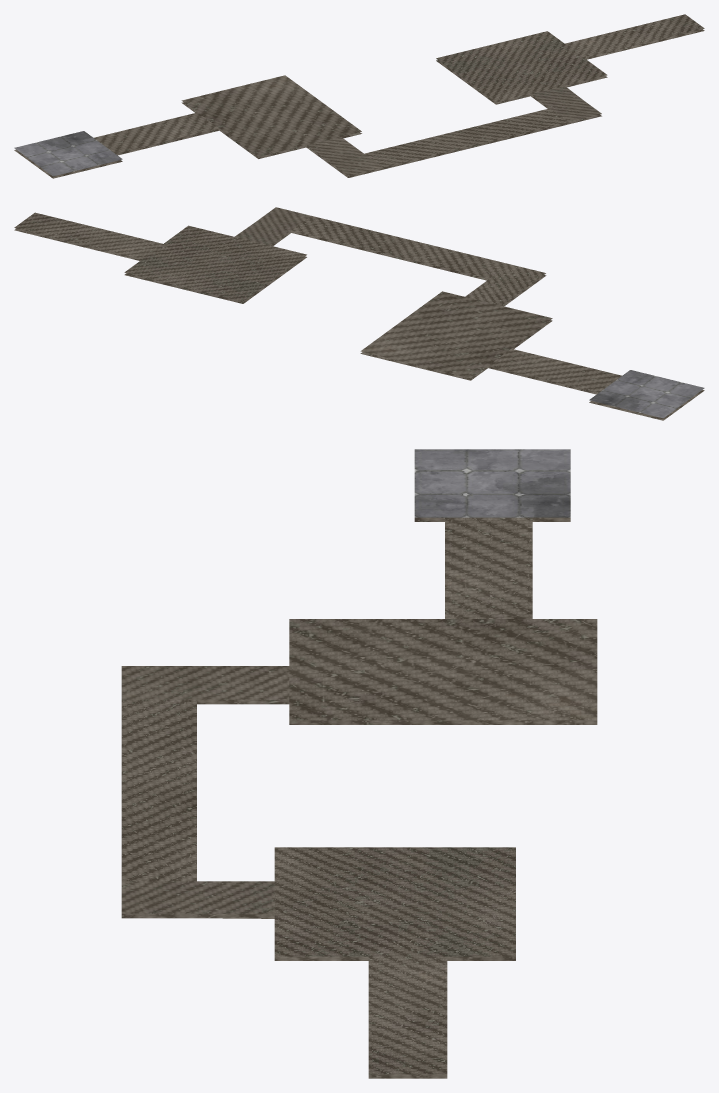
Rendered from floor_upper.fbx.
3 views of the same model, one above another, from view 1: azimuth 30°, elevation 25°; view 2: azimuth 150°, elevation 25°; view 3: azimuth 270°, elevation 25° (orthographic). The views are drawn at different scales.
Parts seen in each view (by area): view 1: floor_upperfloors; view 2: floor_upperfloors; view 3: floor_upperfloors.
Boxes of the visible parts, x1=… form: floor_upperfloors: x1=14, y1=14, x2=704, y2=178; floor_upperfloors: x1=14, y1=207, x2=704, y2=420; floor_upperfloors: x1=121, y1=449, x2=597, y2=1078.
Bounding box in the file's own units: 5996 × 20.05 × 1929.
2 materials, 2 textured.
